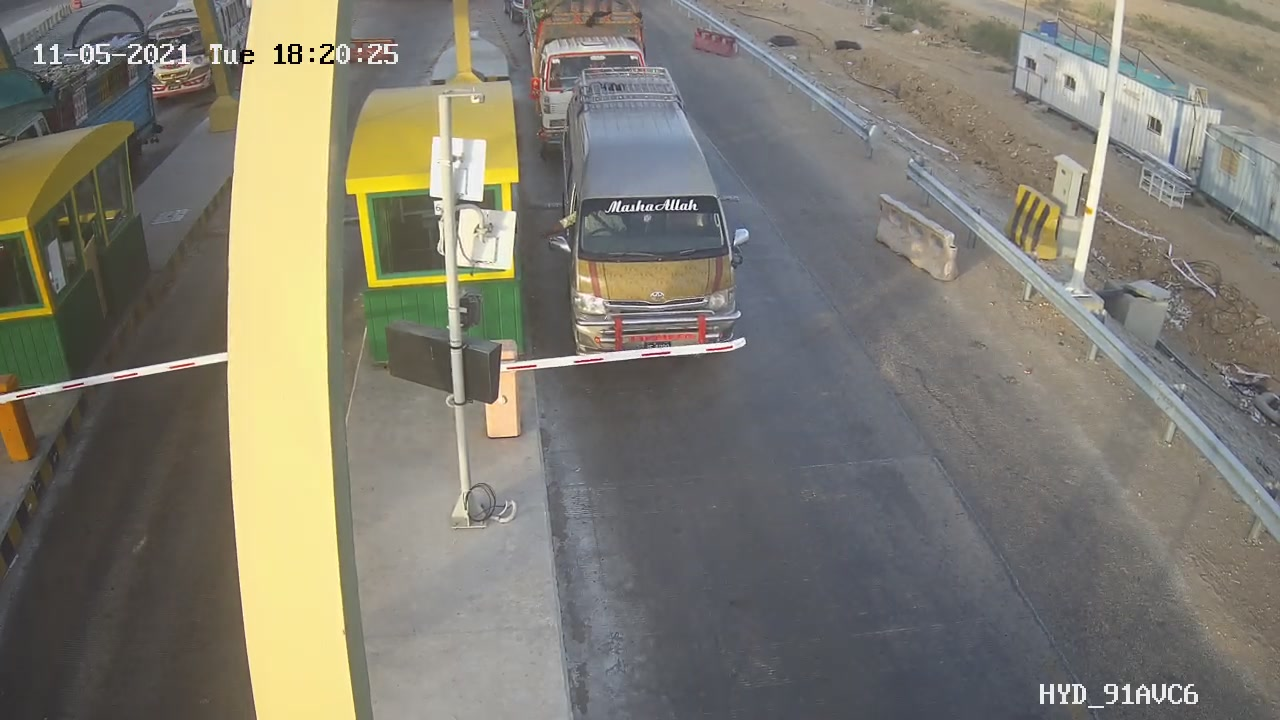F2: (547, 69, 756, 348)
